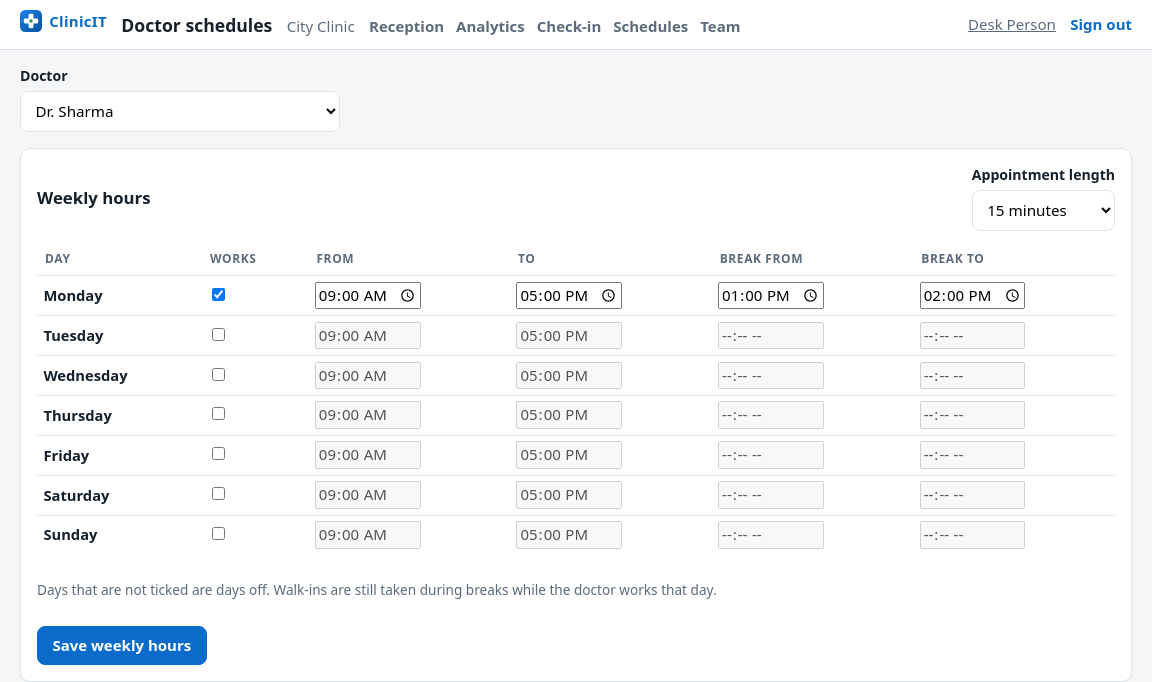
Test: ScheduleEditor › shows the backend's reason when a week is invalid
The width and height of the screenshot is (1152, 682).
Expected: the heading "Weekly hours" is shown, left=37, top=188, right=151, bottom=208
Click the button "Save weekly hours": (122, 645) left=37, top=626, right=207, bottom=665
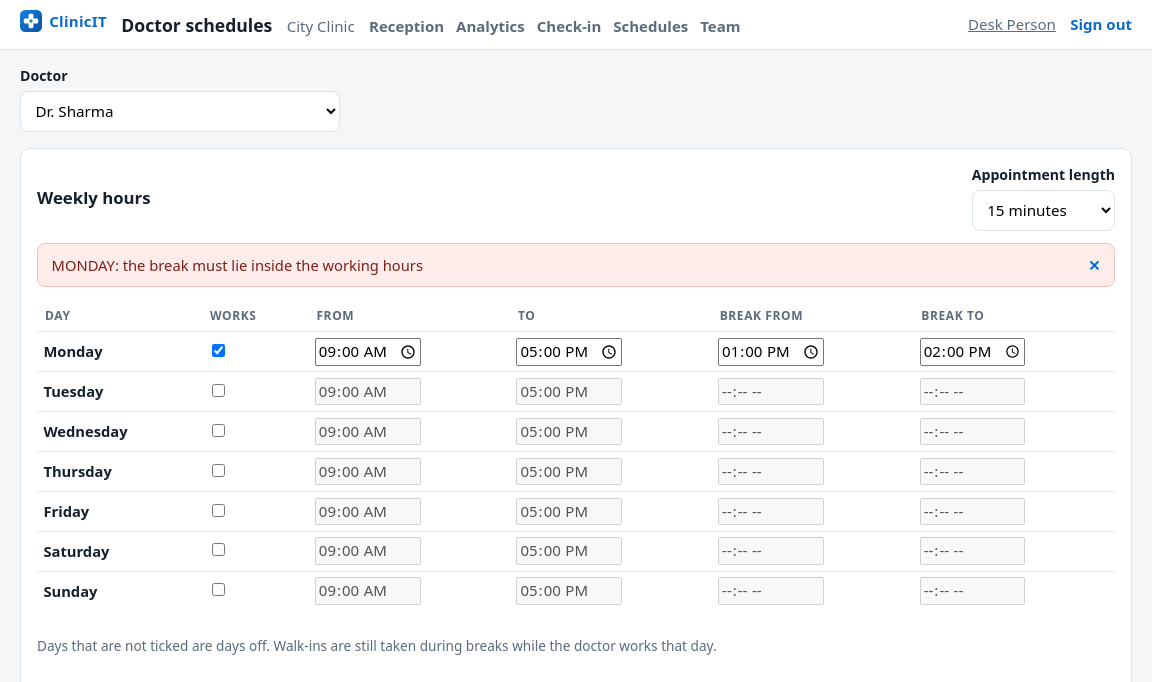
Expected: the message shows "the break must lie inside the working hours", left=52, top=255, right=423, bottom=275
